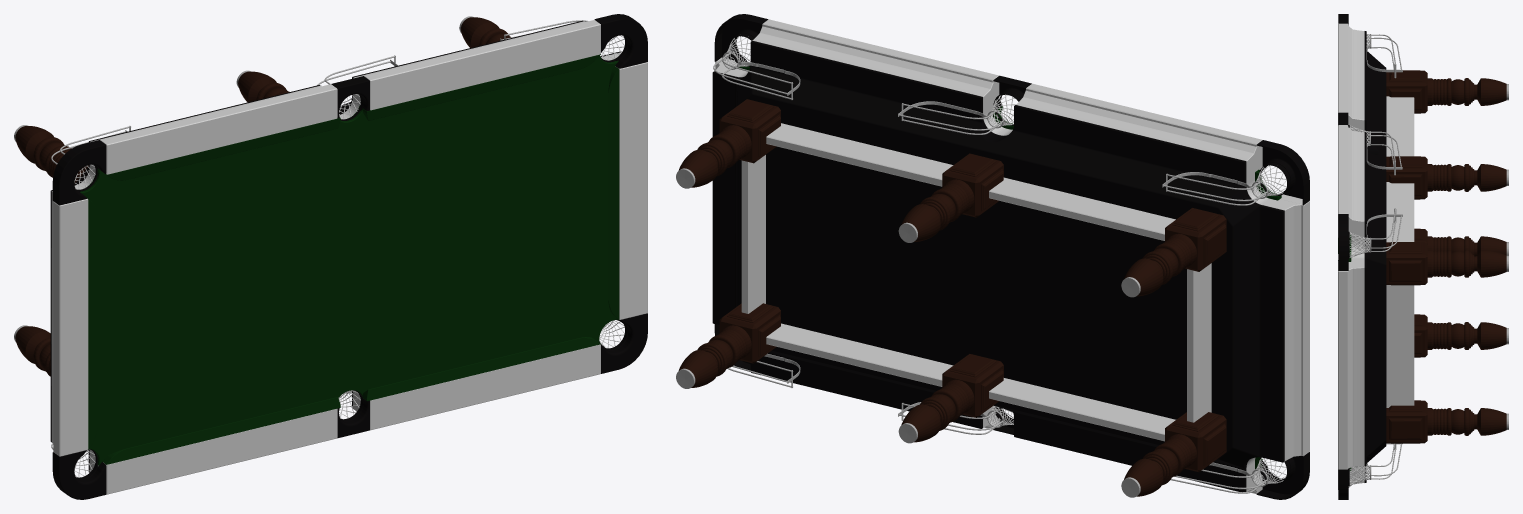
File: pool_table.obj
The picture shows the model from 3 angles, left to right: view 1: azimuth 30°, elevation 25°; view 2: azimuth 150°, elevation 25°; view 3: azimuth 270°, elevation 25°; orthographic projection. The views are drawn at different scales.
Visible parts, largest first — view 1: table; view 2: table; view 3: table.
Boxes of the visible parts, <box> form: table: <box>14,14,647,499</box>; table: <box>676,14,1309,499</box>; table: <box>1338,14,1508,499</box>.
Bounding box in the file's own units: 2.6 × 1.48 × 0.8267.
